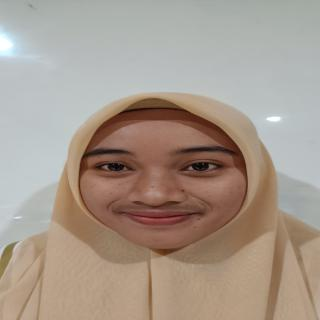Senang: (66, 103, 254, 254)
